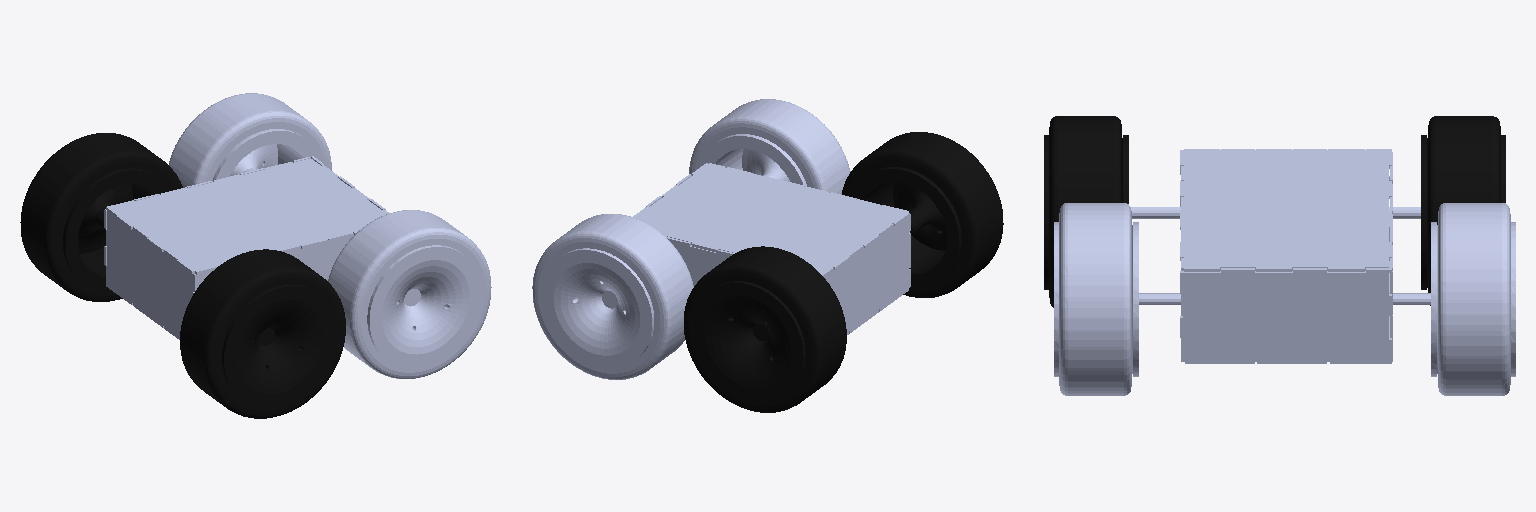
URDF robot description (grobot):
<?xml version="1.0" encoding="utf-8"?>
<!-- This URDF was automatically created by SolidWorks to URDF Exporter! Originally created by [author] ([email redacted]) 
     Commit Version: 1.6.0-4-g7f85cfe  Build Version: 1.6.7995.38578
     For more information, please see http://wiki.ros.org/sw_urdf_exporter -->
<robot
  name="grobot">
  <link
    name="base_link">
    <inertial>
      <origin
        xyz="0.00093678 0.00060805 -0.043"
        rpy="0 0 0" />
      <mass
        value="0.44251" />
      <inertia
        ixx="0.0009344"
        ixy="5.78E-09"
        ixz="1.8097E-19"
        iyy="0.0017285"
        iyz="1.244E-06"
        izz="0.0024323" />
    </inertial>
    <visual>
      <origin
        xyz="0 0 0"
        rpy="0 0 0" />
      <geometry>
        <mesh
          filename="package://grobot/meshes/base_link.STL" />
      </geometry>
      <material
        name="">
        <color
          rgba="0.79216 0.81961 0.93333 1" />
      </material>
    </visual>
    <collision>
      <origin
        xyz="0 0 0"
        rpy="0 0 0" />
      <geometry>
        <mesh
          filename="package://grobot/meshes/base_link.STL" />
      </geometry>
    </collision>
  </link>
  <link
    name="axe2_Link">
    <inertial>
      <origin
        xyz="-1.3878E-17 5.8981E-17 -5.5511E-17"
        rpy="0 0 0" />
      <mass
        value="0.024347" />
      <inertia
        ixx="0.00019513"
        ixy="7.5161E-21"
        ixz="2.2403E-25"
        iyy="3.0434E-07"
        iyz="3.7028E-20"
        izz="0.00019513" />
    </inertial>
    <visual>
      <origin
        xyz="0 0 0"
        rpy="0 0 0" />
      <geometry>
        <mesh
          filename="package://grobot/meshes/axe2_Link.STL" />
      </geometry>
      <material
        name="">
        <color
          rgba="0.79216 0.81961 0.93333 1" />
      </material>
    </visual>
    <collision>
      <origin
        xyz="0 0 0"
        rpy="0 0 0" />
      <geometry>
        <mesh
          filename="package://grobot/meshes/axe2_Link.STL" />
      </geometry>
    </collision>
  </link>
  <joint
    name="axe2_joint"
    type="fixed">
    <origin
      xyz="0.085583 -0.00088809 -0.043"
      rpy="0 0 0" />
    <parent
      link="base_link" />
    <child
      link="axe2_Link" />
    <axis
      xyz="0 0 0" />
  </joint>
  <link
    name="wheelRG_Link">
    <inertial>
      <origin
        xyz="-1.4801E-07 -0.033261 -3.766E-06"
        rpy="0 0 0" />
      <mass
        value="0.83212" />
      <inertia
        ixx="0.0020122"
        ixy="5.9315E-09"
        ixz="6.7329E-13"
        iyy="0.0034308"
        iyz="6.1377E-08"
        izz="0.002012" />
    </inertial>
    <visual>
      <origin
        xyz="0 0 0"
        rpy="0 0 0" />
      <geometry>
        <mesh
          filename="package://grobot/meshes/wheelRG_Link.STL" />
      </geometry>
      <material
        name="">
        <color
          rgba="0.79216 0.81961 0.93333 1" />
      </material>
    </visual>
    <collision>
      <origin
        xyz="0 0 0"
        rpy="0 0 0" />
      <geometry>
        <mesh
          filename="package://grobot/meshes/wheelRG_Link.STL" />
      </geometry>
    </collision>
  </link>
  <joint
    name="wheelRG_joint"
    type="continuous">
    <origin
      xyz="0 0.191 0"
      rpy="0 0 0" />
    <parent
      link="axe2_Link" />
    <child
      link="wheelRG_Link" />
    <axis
      xyz="0 1 0" />
  </joint>
  <link
    name="wheelRAdro_Link">
    <inertial>
      <origin
        xyz="9.8557E-07 0.033261 3.6377E-06"
        rpy="0 0 0" />
      <mass
        value="0.83212" />
      <inertia
        ixx="0.0020121"
        ixy="1.2705E-08"
        ixz="-3.0133E-08"
        iyy="0.0034308"
        iyz="6.034E-08"
        izz="0.0020121" />
    </inertial>
    <visual>
      <origin
        xyz="0 0 0"
        rpy="0 0 0" />
      <geometry>
        <mesh
          filename="package://grobot/meshes/wheelRAdro_Link.STL" />
      </geometry>
      <material
        name="">
        <color
          rgba="0.79216 0.81961 0.93333 1" />
      </material>
    </visual>
    <collision>
      <origin
        xyz="0 0 0"
        rpy="0 0 0" />
      <geometry>
        <mesh
          filename="package://grobot/meshes/wheelRAdro_Link.STL" />
      </geometry>
    </collision>
  </link>
  <joint
    name="wheelRAdroit"
    type="continuous">
    <origin
      xyz="0 -0.191 0"
      rpy="0 0 0" />
    <parent
      link="axe2_Link" />
    <child
      link="wheelRAdro_Link" />
    <axis
      xyz="0 1 0" />
  </joint>
  <link
    name="ax1_Link">
    <inertial>
      <origin
        xyz="1.38777878078145E-17 -6.07153216591882E-17 0"
        rpy="0 0 0" />
      <mass
        value="0.0243473430653209" />
      <inertia
        ixx="0.00019513380994227"
        ixy="-1.33328223455492E-18"
        ixz="-4.82522023984462E-24"
        iyy="3.04341788316511E-07"
        iyz="6.95996023743593E-21"
        izz="0.00019513380994227" />
    </inertial>
    <visual>
      <origin
        xyz="0 0 0"
        rpy="0 0 0" />
      <geometry>
        <mesh
          filename="package://grobot/meshes/ax1_Link.STL" />
      </geometry>
      <material
        name="">
        <color
          rgba="0.792156862745098 0.819607843137255 0.933333333333333 1" />
      </material>
    </visual>
    <collision>
      <origin
        xyz="0 0 0"
        rpy="0 0 0" />
      <geometry>
        <mesh
          filename="package://grobot/meshes/ax1_Link.STL" />
      </geometry>
    </collision>
  </link>
  <joint
    name="axe1_joint"
    type="fixed">
    <origin
      xyz="-0.084417 -0.0090943 -0.043"
      rpy="0 0 0" />
    <parent
      link="base_link" />
    <child
      link="ax1_Link" />
    <axis
      xyz="0 0 0" />
  </joint>
  <link
    name="wheelRD_Link">
    <inertial>
      <origin
        xyz="1.2459E-06 0.033261 3.5569E-06"
        rpy="0 0 0" />
      <mass
        value="0.83212" />
      <inertia
        ixx="0.0020121"
        ixy="1.6988E-08"
        ixz="-3.6065E-08"
        iyy="0.0034308"
        iyz="5.9228E-08"
        izz="0.0020121" />
    </inertial>
    <visual>
      <origin
        xyz="0 0 0"
        rpy="0 0 0" />
      <geometry>
        <mesh
          filename="package://grobot/meshes/wheelRD_Link.STL" />
      </geometry>
      <material
        name="">
        <color
          rgba="0.1098 0.1098 0.1098 1" />
      </material>
    </visual>
    <collision>
      <origin
        xyz="0 0 0"
        rpy="0 0 0" />
      <geometry>
        <mesh
          filename="package://grobot/meshes/wheelRD_Link.STL" />
      </geometry>
    </collision>
  </link>
  <joint
    name="wheelRD"
    type="continuous">
    <origin
      xyz="0 -0.191 0"
      rpy="0 0 0" />
    <parent
      link="ax1_Link" />
    <child
      link="wheelRD_Link" />
    <axis
      xyz="0 1 0" />
  </joint>
  <link
    name="wheelRGD_Link">
    <inertial>
      <origin
        xyz="2.0617E-06 -0.033261 -3.155E-06"
        rpy="0 0 0" />
      <mass
        value="0.83212" />
      <inertia
        ixx="0.0020121"
        ixy="-3.0733E-08"
        ixz="4.9846E-08"
        iyy="0.0034308"
        iyz="5.3459E-08"
        izz="0.0020121" />
    </inertial>
    <visual>
      <origin
        xyz="0 0 0"
        rpy="0 0 0" />
      <geometry>
        <mesh
          filename="package://grobot/meshes/wheelRGD_Link.STL" />
      </geometry>
      <material
        name="">
        <color
          rgba="0.1098 0.1098 0.1098 1" />
      </material>
    </visual>
    <collision>
      <origin
        xyz="0 0 0"
        rpy="0 0 0" />
      <geometry>
        <mesh
          filename="package://grobot/meshes/wheelRGD_Link.STL" />
      </geometry>
    </collision>
  </link>
  <joint
    name="wheelRGD"
    type="continuous">
    <origin
      xyz="0 0.191 0"
      rpy="0 0 0" />
    <parent
      link="ax1_Link" />
    <child
      link="wheelRGD_Link" />
    <axis
      xyz="0 1 0" />
  </joint>
</robot>

--- What the picture shows (computed from the rendered views, not written in the file) ---
3 views of the same robot in one strip: view 1: azimuth 30°, elevation 25°; view 2: azimuth 150°, elevation 25°; view 3: azimuth 270°, elevation 25° (orthographic).
Model grobot with 7 links and 6 joints (4 continuous, 2 fixed), rooted at base_link, posed all joints at 0.
Links seen in each view (by area): view 1: base_link, wheelRD_Link, wheelRAdro_Link, wheelRGD_Link, wheelRG_Link; view 2: base_link, wheelRGD_Link, wheelRG_Link, wheelRD_Link, wheelRAdro_Link; view 3: base_link, wheelRG_Link, wheelRAdro_Link, wheelRD_Link, wheelRGD_Link, axe2_Link, ax1_Link.
Boxes of the visible links, bbox=[...] form: base_link: bbox=[104, 156, 388, 339]; wheelRD_Link: bbox=[180, 249, 345, 418]; wheelRAdro_Link: bbox=[328, 210, 491, 378]; wheelRGD_Link: bbox=[20, 133, 182, 301]; wheelRG_Link: bbox=[169, 93, 331, 187]; base_link: bbox=[633, 163, 910, 334]; wheelRGD_Link: bbox=[684, 246, 846, 412]; wheelRG_Link: bbox=[532, 214, 693, 379]; wheelRD_Link: bbox=[842, 132, 1003, 297]; wheelRAdro_Link: bbox=[689, 99, 850, 194]; base_link: bbox=[1180, 149, 1392, 363]; wheelRG_Link: bbox=[1431, 203, 1515, 395]; wheelRAdro_Link: bbox=[1054, 203, 1138, 395]; wheelRD_Link: bbox=[1044, 116, 1128, 307]; wheelRGD_Link: bbox=[1421, 116, 1505, 305]; axe2_Link: bbox=[1139, 293, 1430, 304]; ax1_Link: bbox=[1131, 207, 1420, 218].
Size in the robot's own frame: 0.33 by 0.3902 by 0.16 metres.
7 mesh visuals loaded from 7 distinct referenced files (7 binary STL).